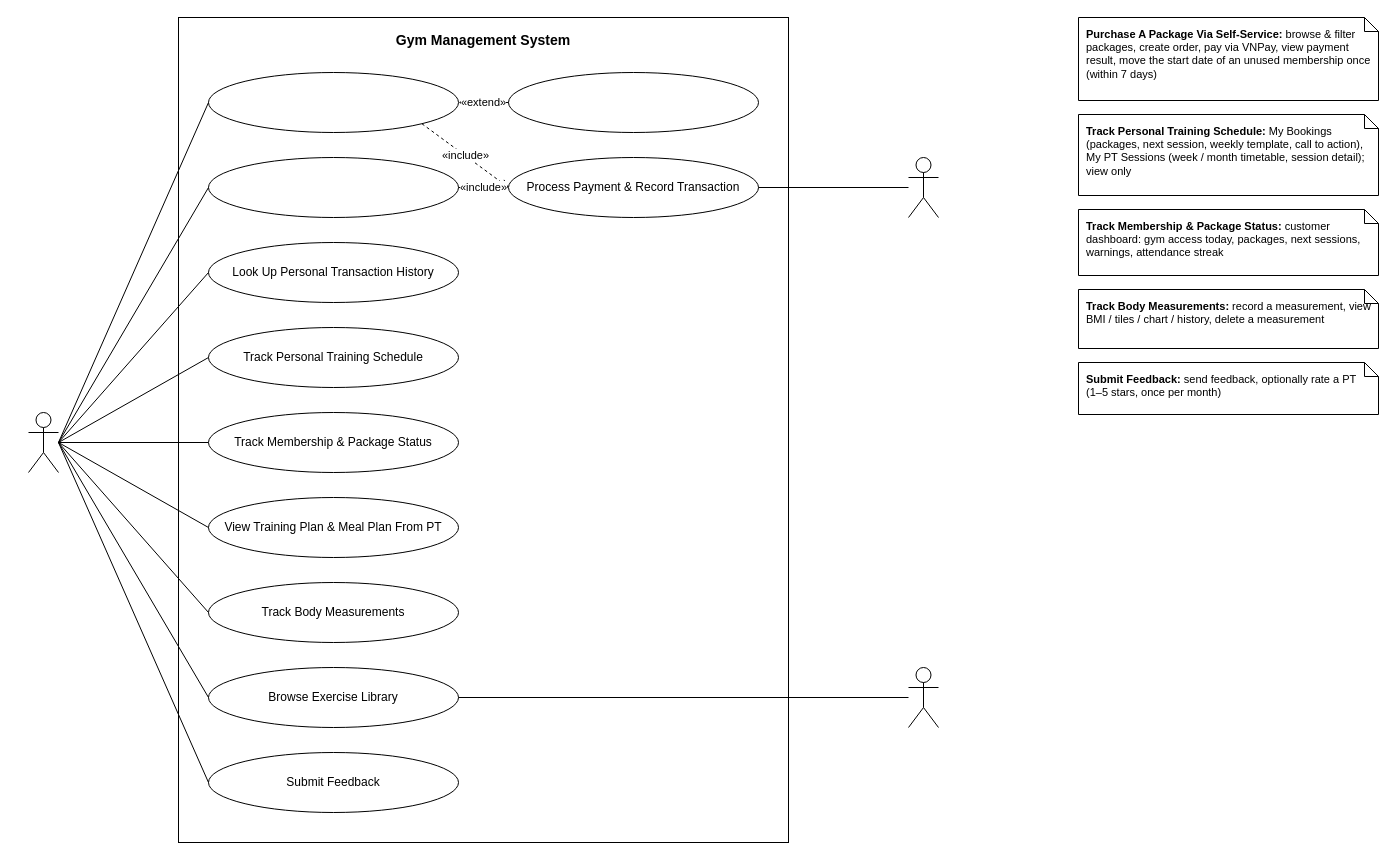
This 1396x860 diagram has some shape labels left out. The shapes that lost their labels are listed below. From the top down, each one's centre as x and y in pixels, then its label:
the point at 333,102: Purchase A Package Via Self-Service
the point at 633,102: Apply A Voucher To An Order
the point at 333,187: Book A Single Session With A PT
the point at 923,187: Payment Gateway (VNPay)
the point at 43,442: Customer
the point at 923,697: Exercise Data Provider (wger)
